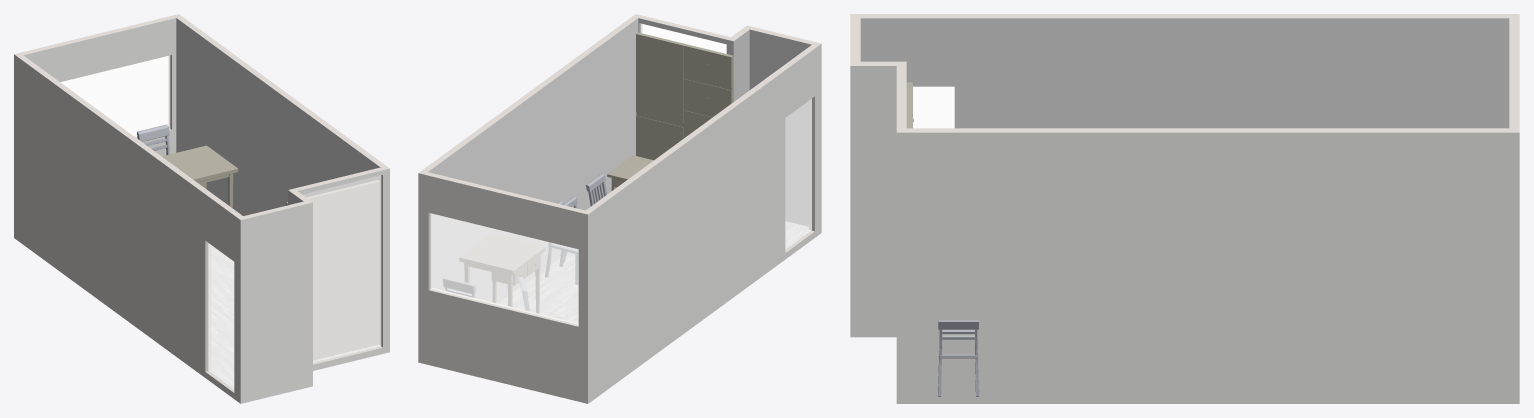
Rendered from Salle_216.glb.
The picture shows the model from 3 angles, left to right: view 1: azimuth 30°, elevation 25°; view 2: azimuth 150°, elevation 25°; view 3: azimuth 270°, elevation 25°; orthographic projection. The views are drawn at different scales.
Visible parts, largest first — view 1: wall_3, wall_14, wall_0, door_0, door_2, storage_cabinet_tall20, wall_16, window_0, window_2, door_1, door_3, floor_Dining_Room (+7 smaller); view 2: wall_3, wall_14, wall_5, window_0, window_2, storage_cabinet_tall20, wall_6, door_1, door_3, table_other_rect1, floor_Dining_Room, wall_13 (+11 smaller); view 3: wall_4, wall_12, wall_1, wall_13, wall_15, door_1, door_3, chair_other_four_back_no3, wall_17, wall_11.
Boxes of the visible parts, bbox=[...] form: wall_3: bbox=[14, 54, 240, 403]; wall_14: bbox=[176, 18, 380, 215]; wall_0: bbox=[240, 202, 312, 403]; door_0: bbox=[303, 175, 380, 362]; door_2: bbox=[303, 176, 380, 362]; storage_cabinet_tall20: bbox=[286, 180, 379, 360]; wall_16: bbox=[24, 18, 176, 156]; window_0: bbox=[61, 55, 169, 136]; window_2: bbox=[61, 56, 169, 136]; door_1: bbox=[208, 243, 233, 389]; door_3: bbox=[208, 243, 233, 388]; floor_Dining_Room: bbox=[208, 245, 380, 389]; wall_3: bbox=[588, 44, 821, 403]; wall_14: bbox=[428, 18, 638, 303]; wall_5: bbox=[418, 173, 587, 403]; window_0: bbox=[431, 213, 578, 324]; window_2: bbox=[431, 214, 578, 324]; storage_cabinet_tall20: bbox=[636, 32, 733, 160]; wall_6: bbox=[749, 29, 811, 226]; door_1: bbox=[785, 99, 811, 249]; door_3: bbox=[785, 99, 811, 248]; table_other_rect1: bbox=[459, 234, 545, 313]; floor_Dining_Room: bbox=[498, 221, 811, 322]; wall_13: bbox=[585, 43, 820, 252]; wall_4: bbox=[896, 132, 1519, 403]; wall_12: bbox=[860, 18, 1509, 128]; wall_1: bbox=[850, 66, 896, 337]; wall_13: bbox=[851, 14, 1518, 18]; wall_15: bbox=[897, 128, 1518, 132]; door_1: bbox=[913, 87, 954, 127]; door_3: bbox=[913, 87, 954, 127]; chair_other_four_back_no3: bbox=[938, 320, 979, 396]; wall_17: bbox=[1509, 14, 1519, 132]; wall_11: bbox=[896, 62, 906, 132].
Bounding box in the file's own units: 2.86 × 2.95 × 6.6.
